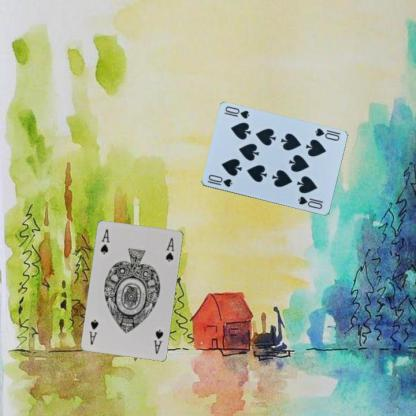10s: (204, 172, 234, 188), (312, 126, 340, 142)
As: (151, 327, 164, 355), (98, 226, 110, 255)
